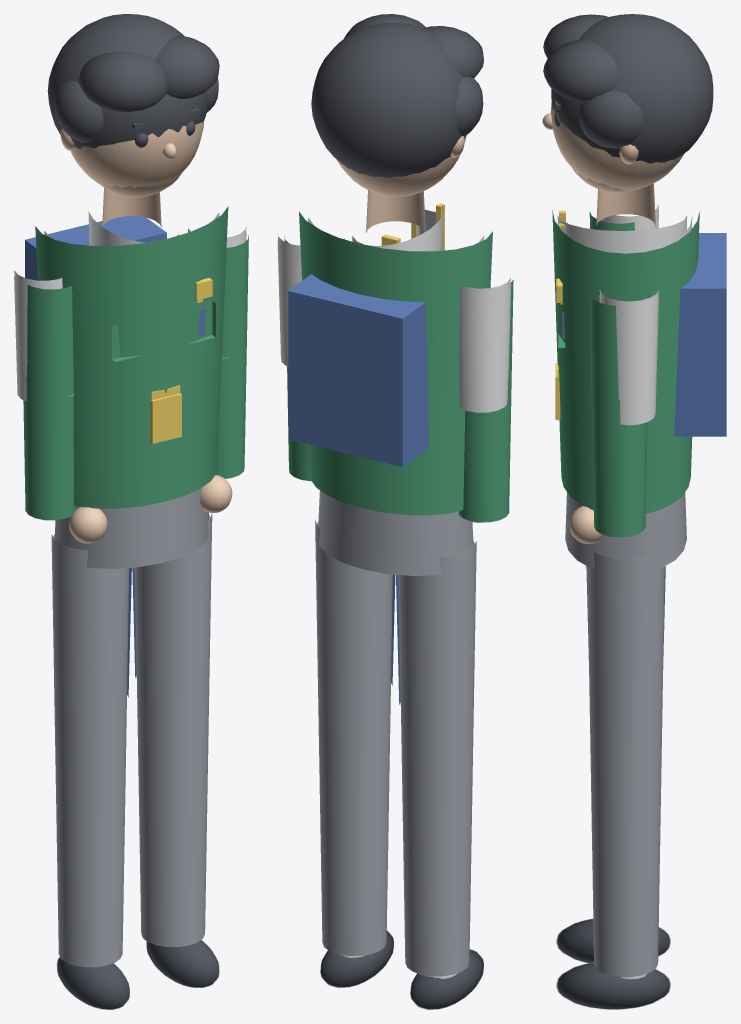
Rendered from avatar.glb.
The picture shows the model from 3 angles, left to right: view 1: azimuth 30°, elevation 25°; view 2: azimuth 150°, elevation 25°; view 3: azimuth 270°, elevation 25°; orthographic projection.
Parts seen in each view (by area): view 1: outfit_smk, outfit_kuliah, body, outfit_smp; view 2: outfit_smk, outfit_kuliah, outfit_smp, body; view 3: outfit_smk, outfit_kuliah, body, outfit_smp.
Boxes of the visible parts, left/top/right/bottom form: outfit_smk: left=14, top=231, right=246, bottom=967; outfit_kuliah: left=23, top=206, right=248, bottom=1009; body: left=47, top=14, right=232, bottom=543; outfit_smp: left=14, top=212, right=246, bottom=1009; outfit_smk: left=277, top=204, right=511, bottom=976; outfit_kuliah: left=284, top=203, right=513, bottom=1009; outfit_smp: left=277, top=217, right=510, bottom=1009; body: left=311, top=14, right=483, bottom=522; outfit_smk: left=557, top=210, right=686, bottom=976; outfit_kuliah: left=552, top=210, right=699, bottom=1009; body: left=542, top=14, right=713, bottom=543; outfit_smp: left=557, top=205, right=726, bottom=1009.
Bounding box in the file's own units: 0.83 × 3.39 × 0.5866.
